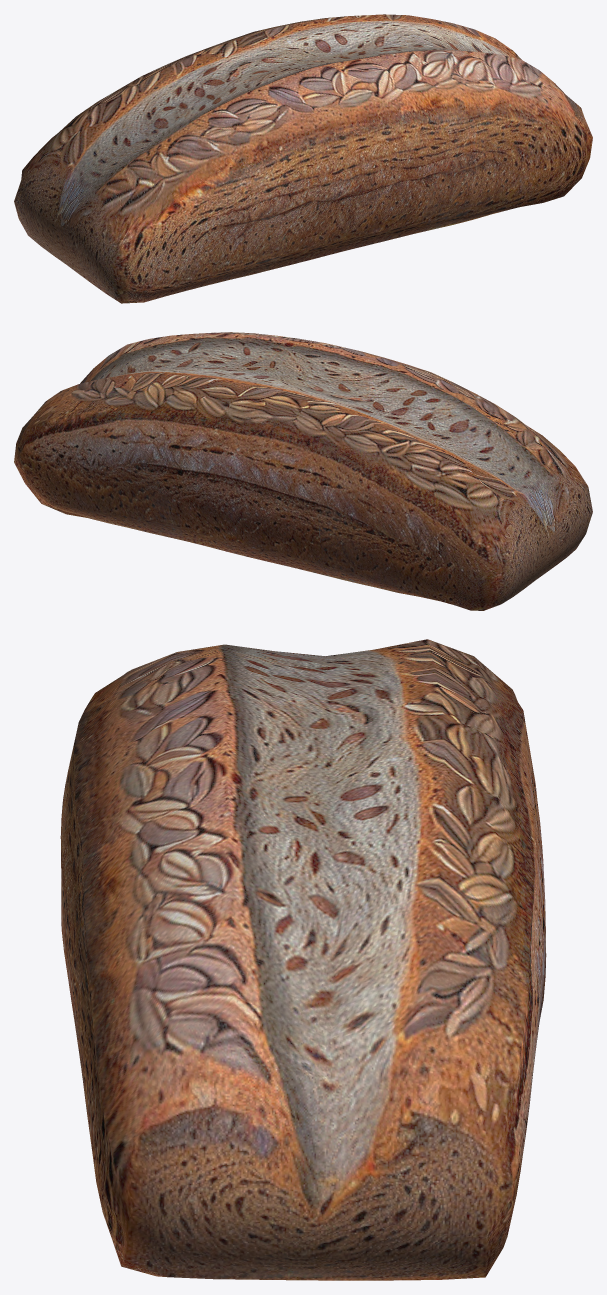
The model's file is Bread_1.FBX.
3 renders of one model, top to bottom at view 1: azimuth 30°, elevation 25°; view 2: azimuth 150°, elevation 25°; view 3: azimuth 270°, elevation 25°, orthographic. The views are drawn at different scales.
Visible parts, largest first — view 1: MultiGrainBread; view 2: MultiGrainBread; view 3: MultiGrainBread.
Boxes of the visible parts, <box> form: MultiGrainBread: <box>14,14,592,303</box>; MultiGrainBread: <box>14,332,592,610</box>; MultiGrainBread: <box>60,639,546,1280</box>.
Size of the model in its own units: 12.91 by 4.15 by 5.41.
